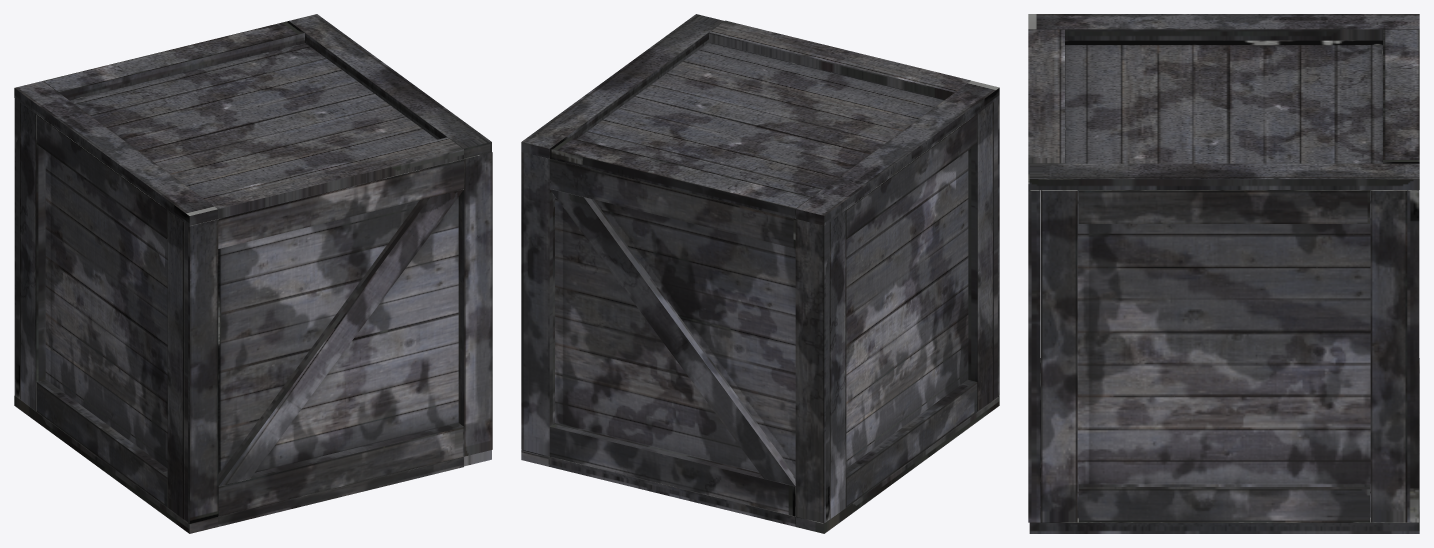
The model's file is box_dirty.FBX.
3 views of the same model, side by side, from view 1: azimuth 30°, elevation 25°; view 2: azimuth 150°, elevation 25°; view 3: azimuth 270°, elevation 25° (orthographic). The views are drawn at different scales.
Parts seen in each view (by area): view 1: box_dirty; view 2: box_dirty; view 3: box_dirty.
Part boxes in pixels (left/top/right/bottom): box_dirty: left=14, top=14, right=492, bottom=533; box_dirty: left=521, top=14, right=999, bottom=533; box_dirty: left=1028, top=14, right=1419, bottom=533.
Bounding box in the file's own units: 49.97 × 50.05 × 50.03.
1 material, 1 textured.
